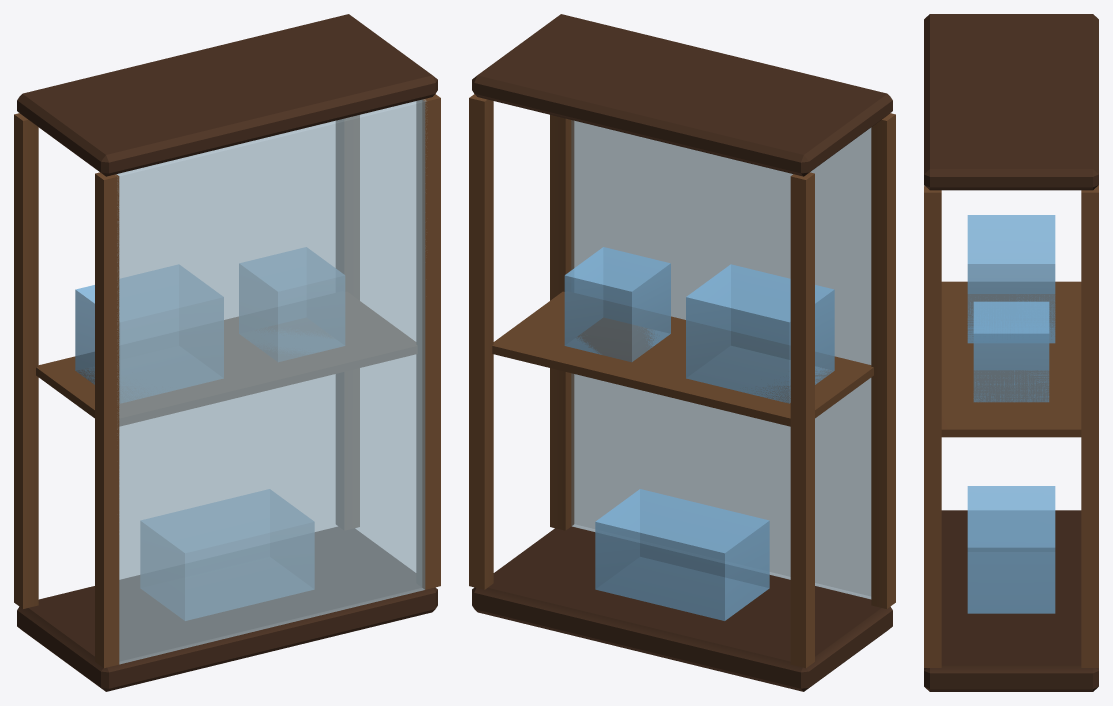
The model's file is glass_case.glb.
3 views of the same model, side by side, from view 1: azimuth 30°, elevation 25°; view 2: azimuth 150°, elevation 25°; view 3: azimuth 270°, elevation 25° (orthographic). The views are drawn at different scales.
Visible parts, largest first — view 1: glass_case; view 2: glass_case; view 3: glass_case.
Part boxes in pixels (x1,y1,x2,y2): glass_case: (14, 14, 440, 691); glass_case: (469, 14, 895, 691); glass_case: (924, 14, 1098, 691).
Bounding box in the file's own units: 1.3 × 1.98 × 0.6.
